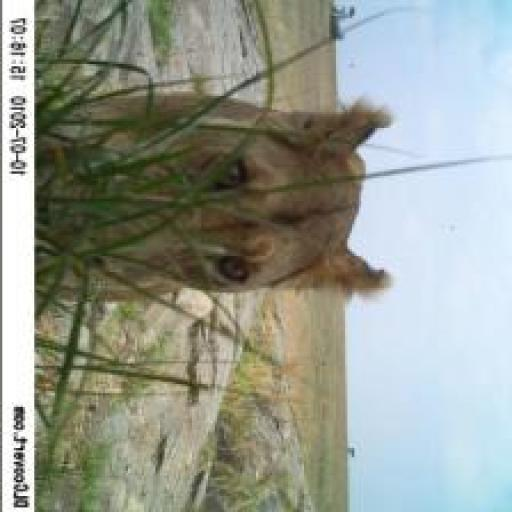lion: (30, 73, 418, 308)
